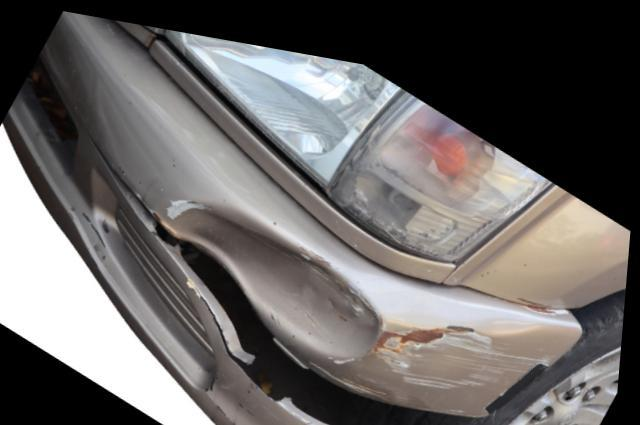crack: (197, 276, 254, 361)
dent: (166, 193, 388, 347)
dislocated part: (61, 148, 491, 425)
scratch: (373, 302, 555, 380), (222, 383, 309, 425), (319, 350, 398, 384)
